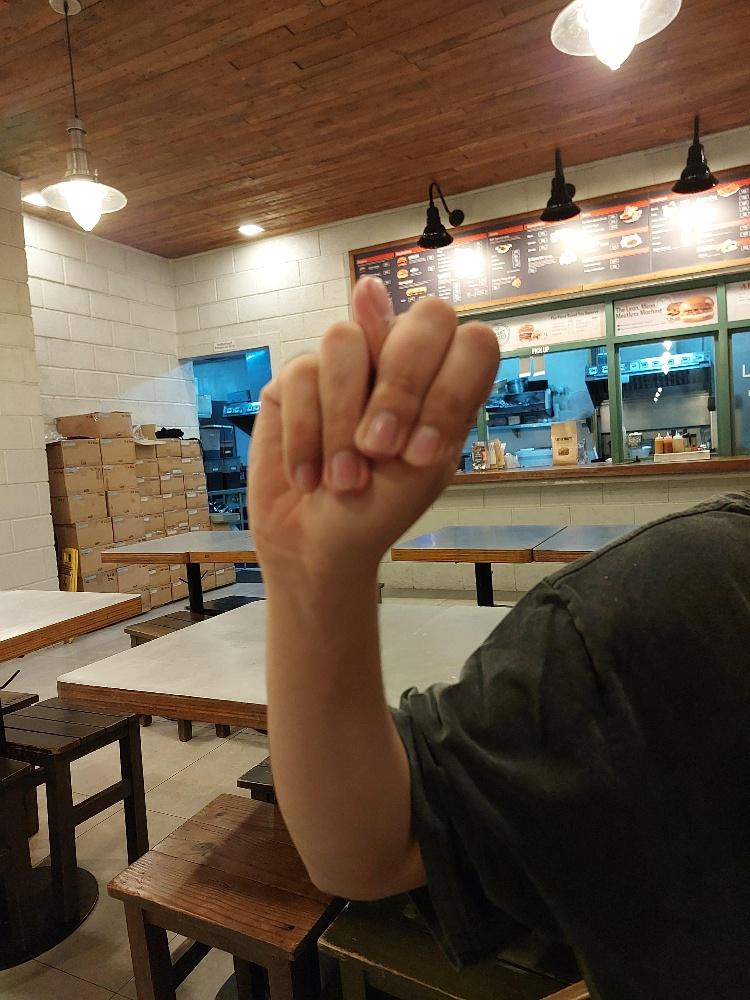n: (243, 272, 500, 571)
